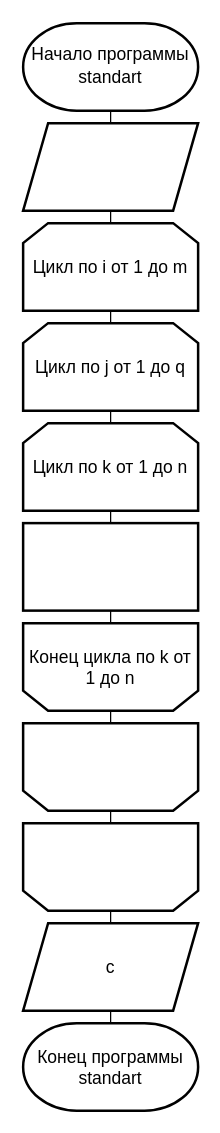
Some shapes in this 220 by 1133 pixel diagram are drawn without their labels. The centre of each missing label's shape, as x and y in pixels:
a, b, c, m, n, q: the point at 110,166
c[i][j]=c[i][j]+ +a[i][k]*b[k][j]: the point at 110,566
Конец цикла по i от 1 до m: the point at 110,866
Конец цикла по j от 1 до q: the point at 110,766
